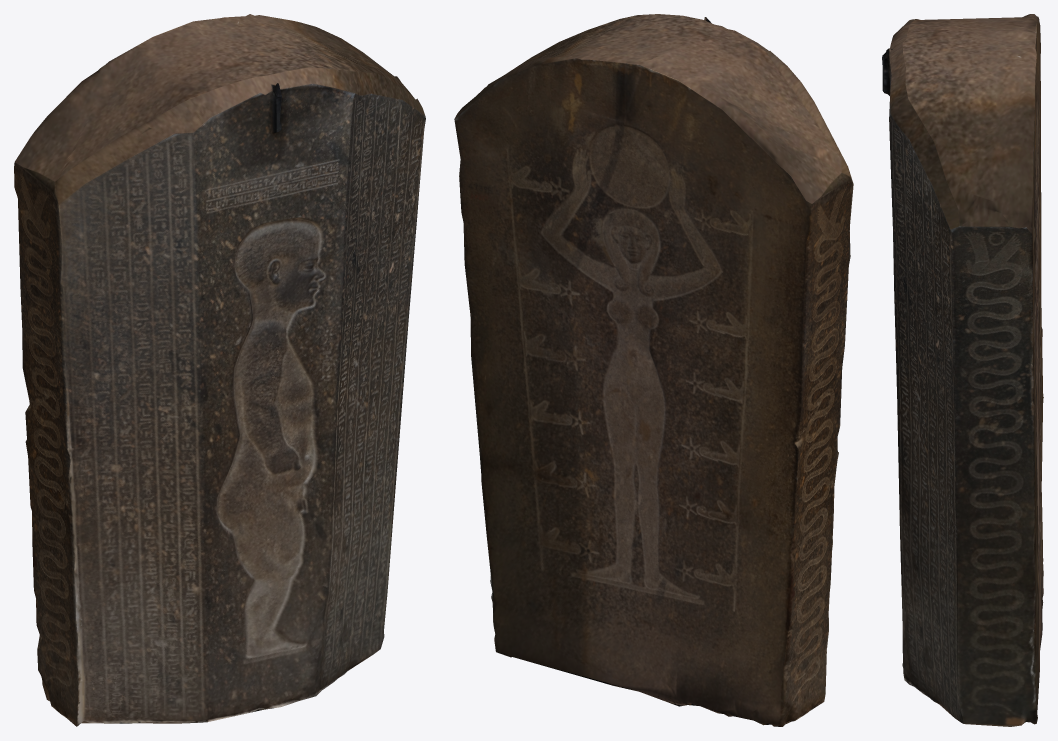
Rendered from Sarcophagus_Lid.fbx.
The picture shows the model from 3 angles, left to right: view 1: azimuth 30°, elevation 25°; view 2: azimuth 150°, elevation 25°; view 3: azimuth 270°, elevation 25°; orthographic projection. The views are drawn at different scales.
Parts seen in each view (by area): view 1: Sarcophagus_Lid_LOD0; view 2: Sarcophagus_Lid_LOD0; view 3: Sarcophagus_Lid_LOD0.
Boxes of the visible parts, bbox=[...] form: Sarcophagus_Lid_LOD0: bbox=[14, 14, 425, 726]; Sarcophagus_Lid_LOD0: bbox=[454, 14, 853, 726]; Sarcophagus_Lid_LOD0: bbox=[882, 14, 1043, 726].
Size of what is drawn, in the model's own units: 111 by 185 by 43.22.
